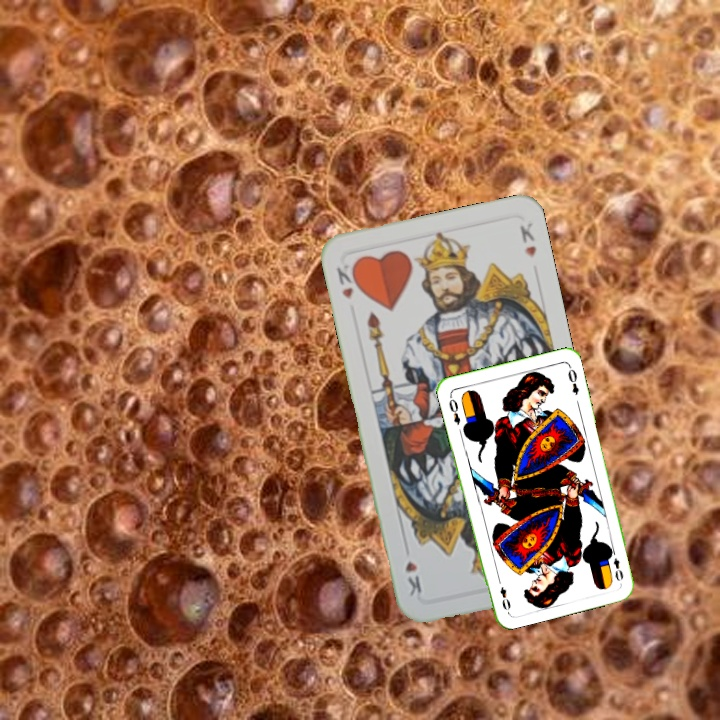EO: (605, 545, 626, 584), (445, 395, 463, 427)
HK: (332, 258, 362, 302)
